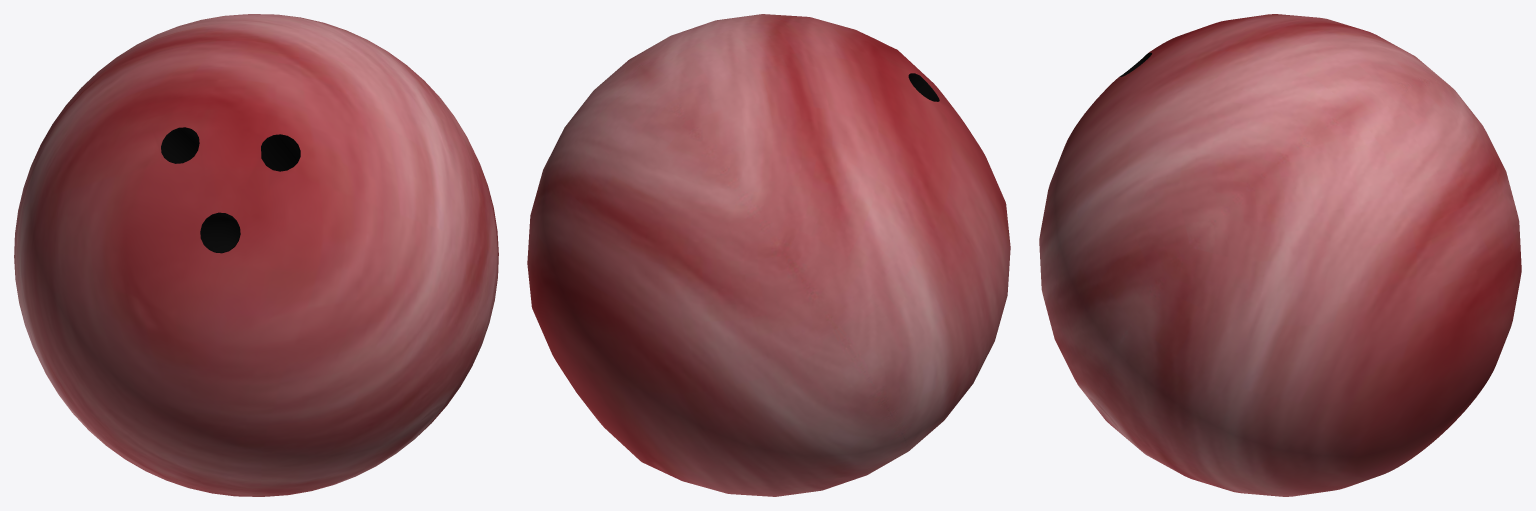
File: BallT3.FBX
3 views of the same model, side by side, from view 1: azimuth 30°, elevation 25°; view 2: azimuth 150°, elevation 25°; view 3: azimuth 270°, elevation 25° (orthographic).
Visible parts, largest first — view 1: Ball3; view 2: Ball3; view 3: Ball3.
Part boxes in pixels (<box>): Ball3: <box>14,14,498,496</box>; Ball3: <box>527,14,1010,496</box>; Ball3: <box>1039,14,1521,496</box>.
Size of the model in its own units: 181 by 180 by 180.
